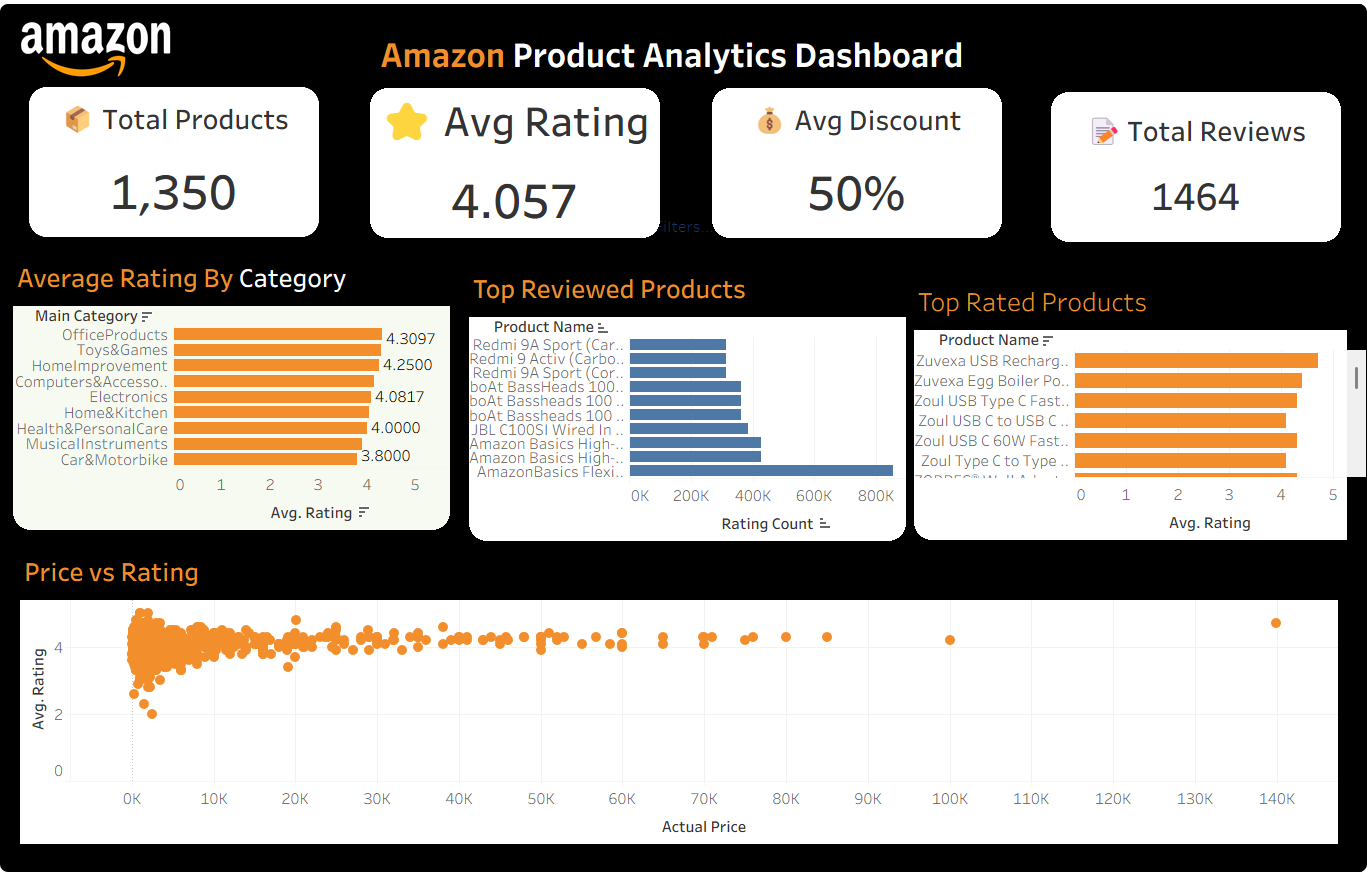

The dashboard page shown, as its layout file describes it:
{"tool":"tableau","page":{"name":"Dashboard 1","canvas":[1368,868],"ordinal":0},"visuals":[{"type":"image","param":"C:/Users/rajiv/OneDrive/Pictures/Screenshots/Screenshot 2026-06-01 144311.png","box":[10,2,273,73]},{"type":"text","box":[307,3,730,94]},{"type":"dashboard-object","param":"[com.tableau.addfilters].[0.0.0].[https://extensions.tableauusercontent.com/sand","box":[10,10,1348,424]},{"type":"worksheet","title":"Total Products KPI","mark":"Automatic","box":[29,83,290,150]},{"type":"worksheet","title":"Avg Rating KPI","mark":"Automatic","box":[370,84,290,150]},{"type":"worksheet","title":"Avg Discount KPI","mark":"Automatic","box":[712,84,290,150]},{"type":"worksheet","title":"Total Reviews KPI","mark":"Automatic","box":[1051,88,290,150]},{"type":"worksheet","title":"Sheet 1","mark":"Automatic","rows":["main_category"],"cols":["rating"],"box":[13,252,437,274]},{"type":"worksheet","title":"Sheet 2","mark":"Automatic","rows":["product_name"],"cols":["rating_count"],"box":[469,263,437,274]},{"type":"worksheet","title":"Top Rated Products","mark":"Automatic","rows":["product_name"],"cols":["rating"],"box":[914,276,453,260]},{"type":"dashboard-object","param":"[com.tableau.addfilters].[0.0.0].[https://extensions.tableauusercontent.com/sand","box":[10,434,1348,424]},{"type":"worksheet","title":"Sheet 3","mark":"Circle","rows":["rating"],"cols":["actual_price"],"box":[20,546,1318,294]}]}

Visuals, with their boxes in screenshot pixels (x1, y1, x2, y2), scaled from the page's 1368x868 canvas onto the 1367x877 screenshot:
image: select_region(10, 2, 283, 76)
text: select_region(307, 3, 1036, 98)
dashboard-object: select_region(10, 10, 1357, 438)
"Total Products KPI" worksheet: select_region(29, 84, 319, 235)
"Avg Rating KPI" worksheet: select_region(370, 85, 660, 236)
"Avg Discount KPI" worksheet: select_region(711, 85, 1001, 236)
"Total Reviews KPI" worksheet: select_region(1050, 89, 1340, 240)
"Sheet 1" worksheet: select_region(13, 255, 450, 531)
"Sheet 2" worksheet: select_region(469, 266, 905, 543)
"Top Rated Products" worksheet: select_region(913, 279, 1366, 542)
dashboard-object: select_region(10, 438, 1357, 867)
"Sheet 3" worksheet (Circle marks): select_region(20, 552, 1337, 849)
